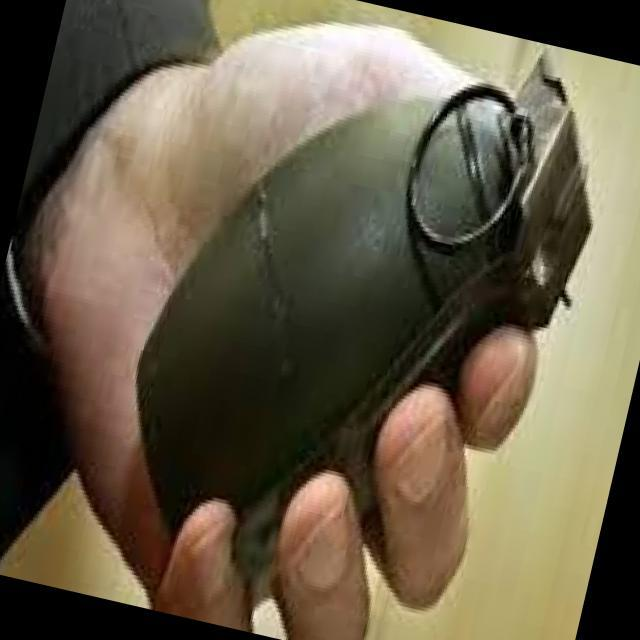grenade: (83, 2, 599, 640)
